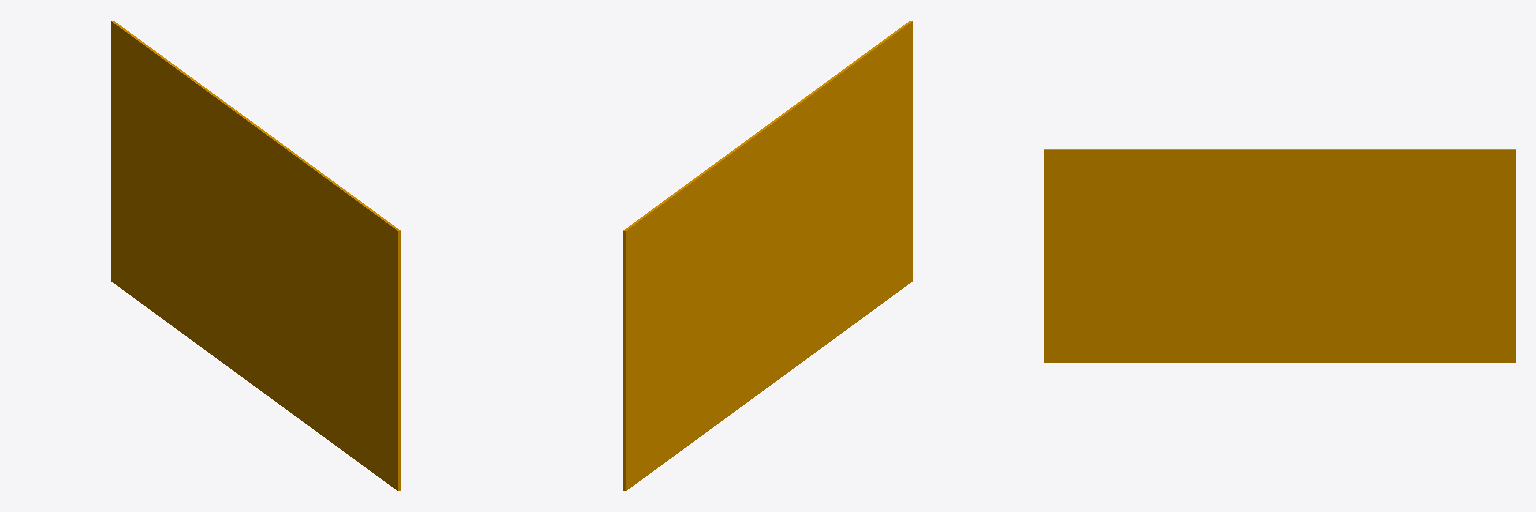
URDF robot description (simple_box):
<robot name="simple_box">
  <link name="my_box">
    <inertial>
      <origin xyz="2 0 0" /> 
      <mass value="0.0" />
      <inertia  ixx="1.0" ixy="0.0"  ixz="0.0"  iyy="100.0"  iyz="0.0"  izz="1.0" />
    </inertial>
    <visual>
      <origin xyz="2 0 0"/>
      <geometry>
        <box size="0.1 20 10" />
      </geometry>
    </visual>
    <collision>
      <origin xyz="2 0 0"/>
      <geometry>
        <box size="1 10 1" />
      </geometry>
    </collision>
  </link>
  <gazebo reference="my_box">
    <material>Gazebo/Blue</material>
  </gazebo>
</robot>

--- Facts derived from the render (not from the file) ---
Views: 3 orthographic renders of the robot side by side, from view 1: azimuth 30°, elevation 25°; view 2: azimuth 150°, elevation 25°; view 3: azimuth 270°, elevation 25°.
Robot: simple_box — 1 links, 0 joints (none); root link my_box; default pose: every joint at zero.
Visible links, largest first — view 1: my_box; view 2: my_box; view 3: my_box.
Boxes of the visible links, x1=… form: my_box: x1=111, y1=21, x2=400, y2=490; my_box: x1=623, y1=21, x2=912, y2=490; my_box: x1=1044, y1=149, x2=1515, y2=362.
Size in the robot's own frame: 0.1 by 20 by 10 metres.
Geometry: primitives only (box / cylinder / sphere), no mesh files.